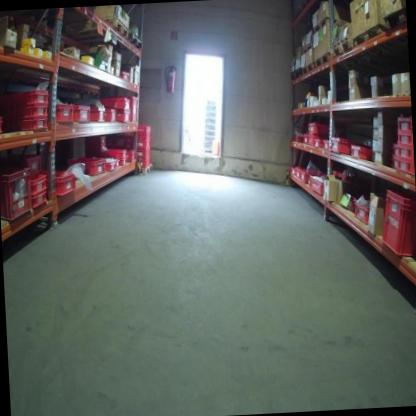pallet: (352, 23, 384, 49), (383, 7, 407, 32), (332, 36, 354, 56), (117, 35, 143, 50), (105, 19, 134, 31), (313, 52, 330, 67), (134, 163, 154, 175), (301, 62, 314, 75), (290, 67, 302, 81)
small_load_carrier: (378, 186, 416, 260), (0, 165, 34, 224), (0, 88, 49, 108), (67, 153, 107, 176), (3, 150, 45, 171), (71, 101, 106, 125), (53, 168, 81, 195), (8, 117, 46, 132), (103, 94, 131, 113), (328, 134, 351, 155), (26, 173, 49, 194), (305, 121, 335, 137), (7, 107, 47, 119), (349, 143, 373, 162), (353, 198, 371, 223), (125, 94, 139, 125), (28, 189, 47, 209), (54, 105, 74, 124), (100, 104, 118, 125), (394, 114, 412, 134), (307, 176, 325, 195), (103, 146, 129, 159), (300, 169, 321, 184), (113, 112, 132, 128), (85, 145, 108, 157), (397, 159, 414, 175), (396, 145, 413, 160), (84, 135, 106, 146), (133, 122, 152, 134), (395, 133, 412, 146), (0, 111, 8, 138), (136, 131, 153, 143), (136, 150, 153, 161), (107, 157, 118, 172), (323, 141, 335, 154), (139, 157, 152, 168), (126, 148, 136, 162), (137, 143, 153, 151), (315, 138, 324, 151), (306, 134, 315, 144), (297, 167, 305, 178), (289, 166, 297, 177), (119, 158, 130, 163)
